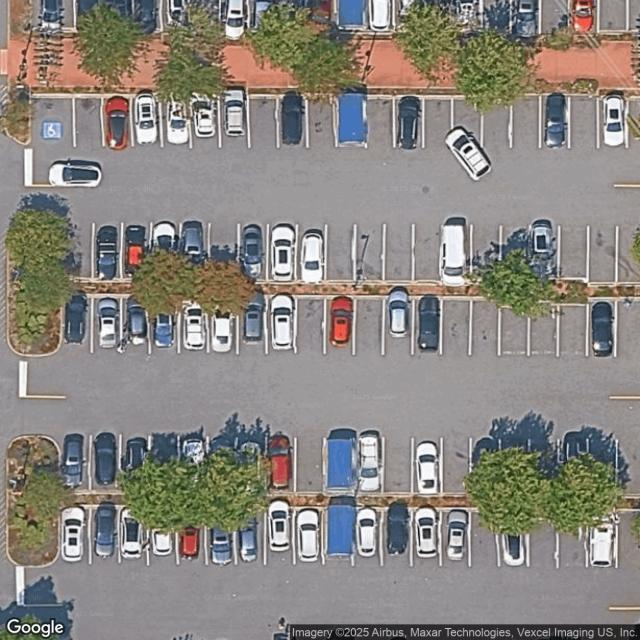car: (442, 222, 469, 287), (529, 220, 557, 282), (180, 218, 207, 280), (394, 93, 423, 149), (498, 510, 527, 566), (415, 294, 442, 354), (542, 88, 568, 149), (103, 95, 131, 151), (265, 434, 293, 490), (600, 89, 626, 148), (269, 291, 295, 350), (152, 220, 177, 281), (210, 296, 236, 353), (208, 509, 234, 566), (60, 505, 86, 562), (271, 223, 296, 282), (589, 300, 614, 359), (357, 434, 382, 493), (182, 296, 208, 352), (415, 440, 441, 496), (240, 222, 264, 282), (163, 92, 190, 145), (278, 92, 305, 145), (93, 500, 118, 556), (592, 509, 615, 569), (133, 91, 158, 146), (95, 224, 119, 281), (94, 430, 118, 487), (414, 506, 440, 558), (148, 505, 174, 557), (120, 504, 145, 558), (301, 230, 325, 286), (62, 293, 88, 344), (125, 222, 147, 282), (124, 294, 149, 346), (387, 285, 411, 339), (236, 506, 259, 562), (222, 86, 247, 137), (96, 295, 120, 348), (180, 437, 204, 490), (445, 508, 469, 561), (62, 432, 83, 492), (153, 295, 176, 349), (296, 511, 320, 562), (127, 436, 150, 489), (386, 502, 408, 557), (192, 90, 216, 140), (332, 292, 355, 344), (268, 498, 291, 550), (242, 289, 264, 343), (179, 504, 201, 557), (240, 438, 261, 492), (358, 505, 378, 556), (396, 0, 422, 33), (225, 1, 247, 38), (515, 0, 536, 38), (572, 0, 595, 34), (254, 1, 277, 31), (136, 1, 159, 31), (39, 0, 62, 30), (166, 0, 188, 30), (195, 0, 218, 28), (456, 0, 477, 30), (308, 1, 334, 25), (281, 1, 305, 27), (79, 0, 100, 29), (370, 0, 390, 30), (108, 1, 127, 29)
lot_boundary: (22, 95, 639, 639), (30, 0, 639, 37)
objects: (60, 495, 639, 508), (62, 283, 640, 296), (326, 507, 353, 564), (326, 438, 354, 490), (337, 97, 366, 147), (338, 0, 366, 34)
stall: (31, 96, 75, 148), (268, 225, 298, 281), (470, 300, 500, 356), (148, 434, 178, 490), (178, 435, 208, 491), (498, 508, 528, 564), (382, 510, 412, 566), (354, 299, 384, 354), (412, 300, 442, 355), (120, 299, 150, 354), (412, 438, 442, 493), (62, 298, 92, 353), (90, 434, 120, 489), (120, 434, 150, 489), (586, 511, 616, 566), (588, 438, 618, 493), (355, 225, 384, 281), (239, 225, 268, 281), (587, 300, 616, 356), (383, 300, 412, 356), (442, 299, 471, 355), (208, 299, 237, 355), (237, 299, 266, 355), (296, 299, 325, 355), (384, 438, 413, 494), (92, 298, 121, 354), (501, 437, 530, 493), (472, 438, 501, 494), (441, 509, 470, 565), (470, 510, 499, 566), (558, 510, 587, 566), (148, 508, 177, 564), (176, 508, 205, 564), (204, 509, 233, 565), (353, 509, 382, 565), (412, 509, 441, 565), (383, 225, 412, 280), (297, 226, 326, 281), (414, 225, 443, 280), (207, 437, 236, 492), (266, 437, 295, 492), (296, 437, 325, 492), (442, 438, 471, 493), (61, 434, 90, 489), (528, 510, 557, 565), (119, 509, 148, 564), (263, 509, 292, 564), (294, 509, 323, 564), (61, 507, 90, 562), (326, 225, 354, 281), (588, 226, 616, 282), (326, 299, 354, 355), (266, 298, 294, 354), (238, 437, 266, 493), (268, 225, 296, 280), (560, 439, 588, 494), (530, 438, 558, 493), (236, 510, 264, 565), (90, 509, 118, 564), (394, 97, 424, 148), (190, 96, 220, 147), (528, 305, 558, 356), (278, 97, 308, 147), (530, 227, 560, 277), (558, 305, 588, 355), (218, 97, 247, 148), (249, 97, 278, 148), (307, 96, 336, 147), (482, 99, 511, 150), (454, 98, 483, 149), (423, 98, 452, 149), (74, 96, 103, 147), (152, 226, 181, 277), (64, 226, 93, 277), (499, 226, 528, 277), (210, 226, 239, 277), (365, 96, 394, 146), (103, 97, 132, 147), (132, 96, 161, 146), (161, 96, 190, 146), (559, 227, 588, 277), (569, 97, 598, 147), (541, 97, 570, 147), (122, 227, 151, 277), (92, 226, 121, 276), (441, 228, 470, 278), (471, 227, 500, 277), (499, 306, 528, 356), (512, 97, 540, 148), (180, 225, 208, 276), (150, 301, 178, 352), (180, 301, 208, 352), (210, 300, 238, 351), (32, 0, 76, 32), (598, 98, 626, 148), (616, 299, 640, 357), (616, 437, 640, 492), (618, 510, 639, 567), (618, 227, 639, 281), (453, 0, 482, 34), (511, 0, 540, 34), (132, 0, 161, 34), (190, 0, 219, 34), (250, 0, 279, 34), (278, 0, 307, 34), (75, 0, 104, 34), (570, 0, 598, 34), (367, 0, 395, 34), (395, 0, 423, 34), (427, 0, 455, 34), (482, 0, 510, 34), (540, 0, 568, 34), (221, 0, 249, 34), (163, 0, 191, 34), (307, 0, 335, 34), (104, 0, 132, 34), (600, 0, 628, 30), (628, 96, 640, 148), (628, 0, 639, 30)
